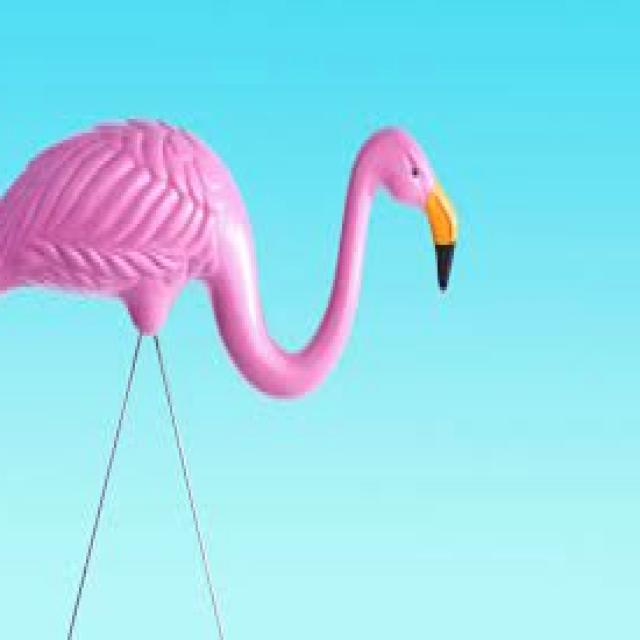flamingo: (2, 119, 458, 395)
